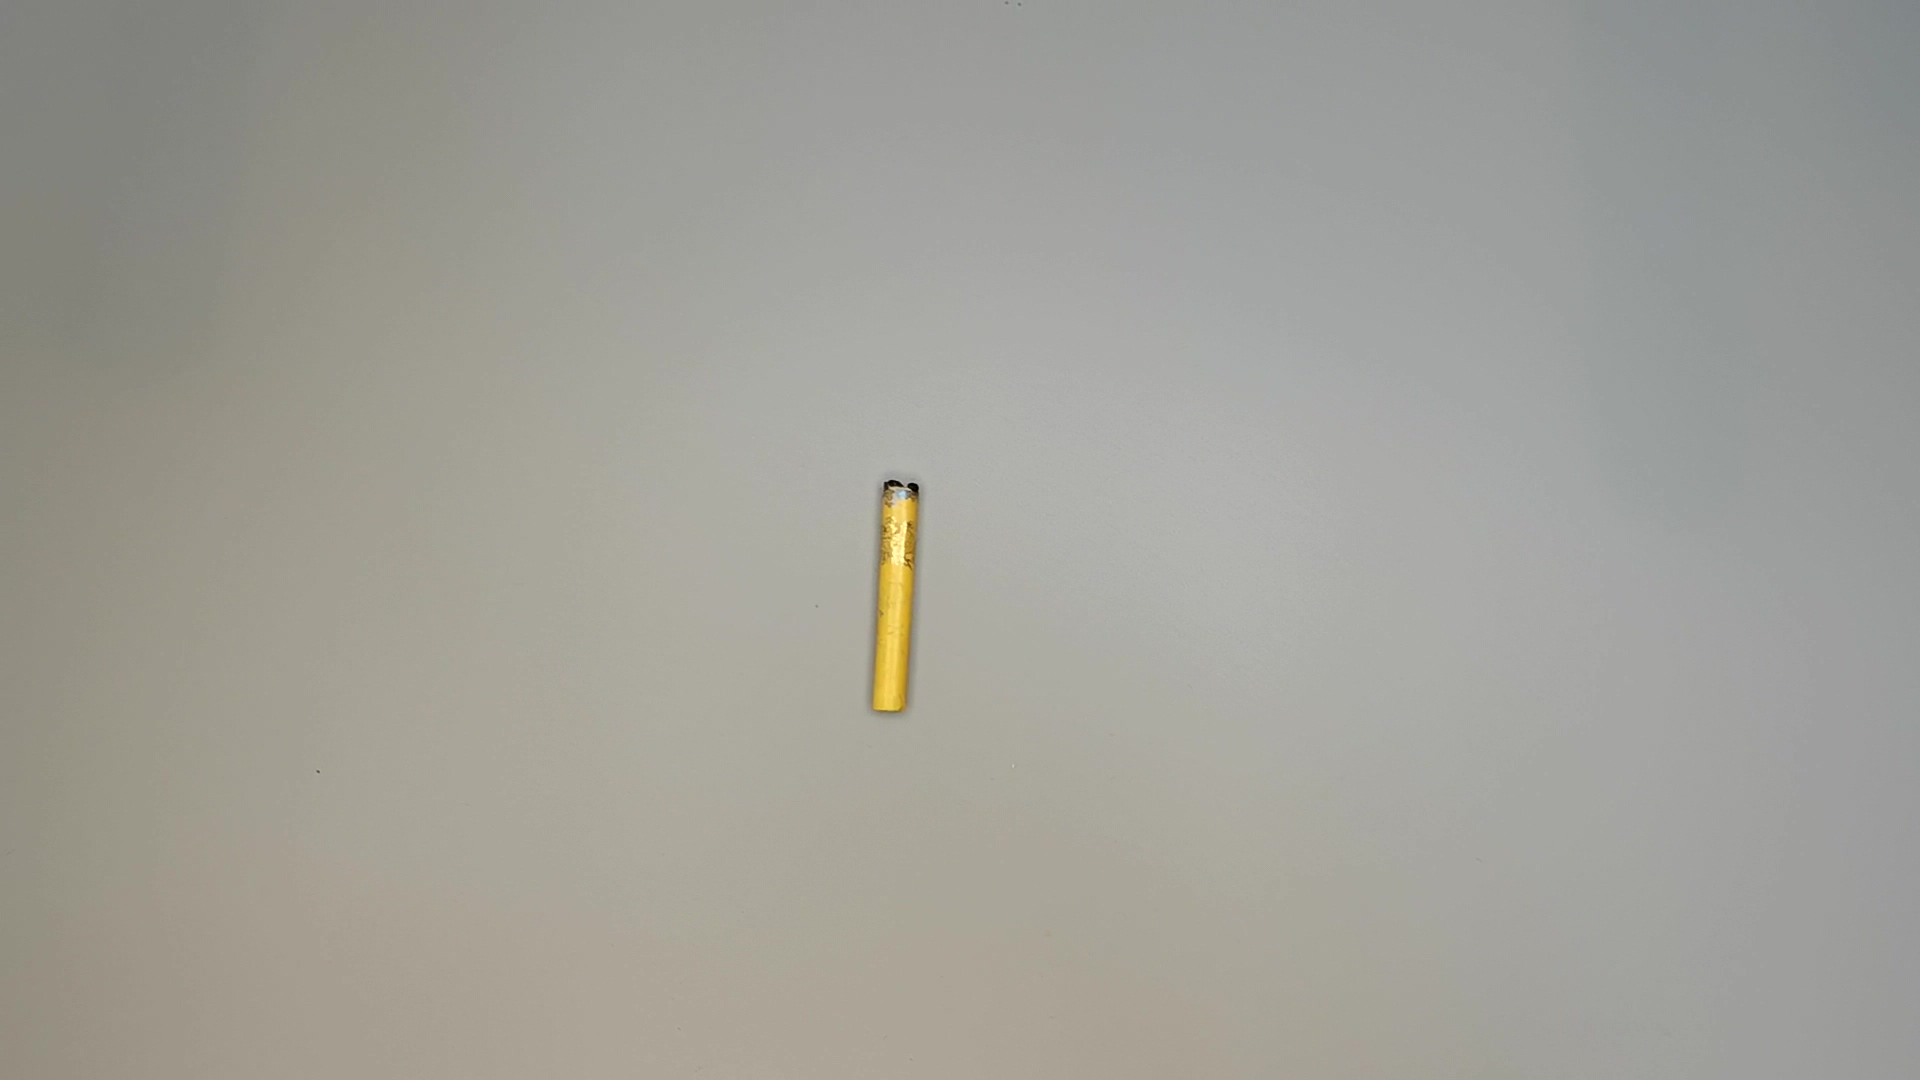cigarette: (862, 476, 932, 723)
